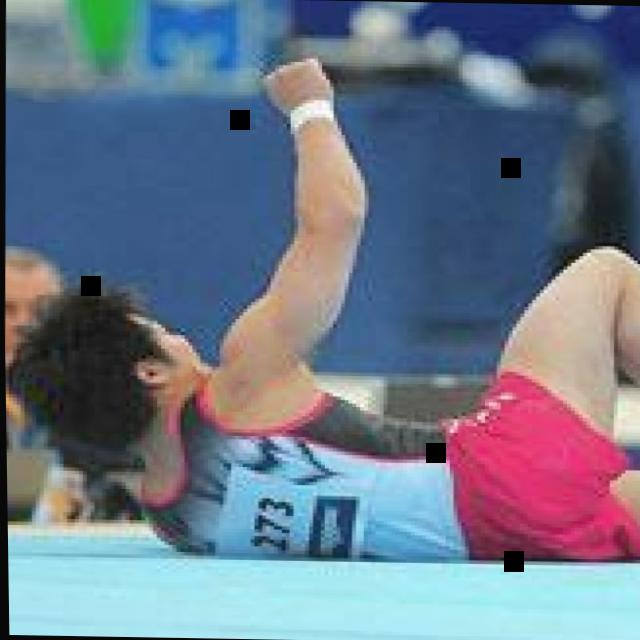Fall-Detected: (12, 45, 640, 538)
